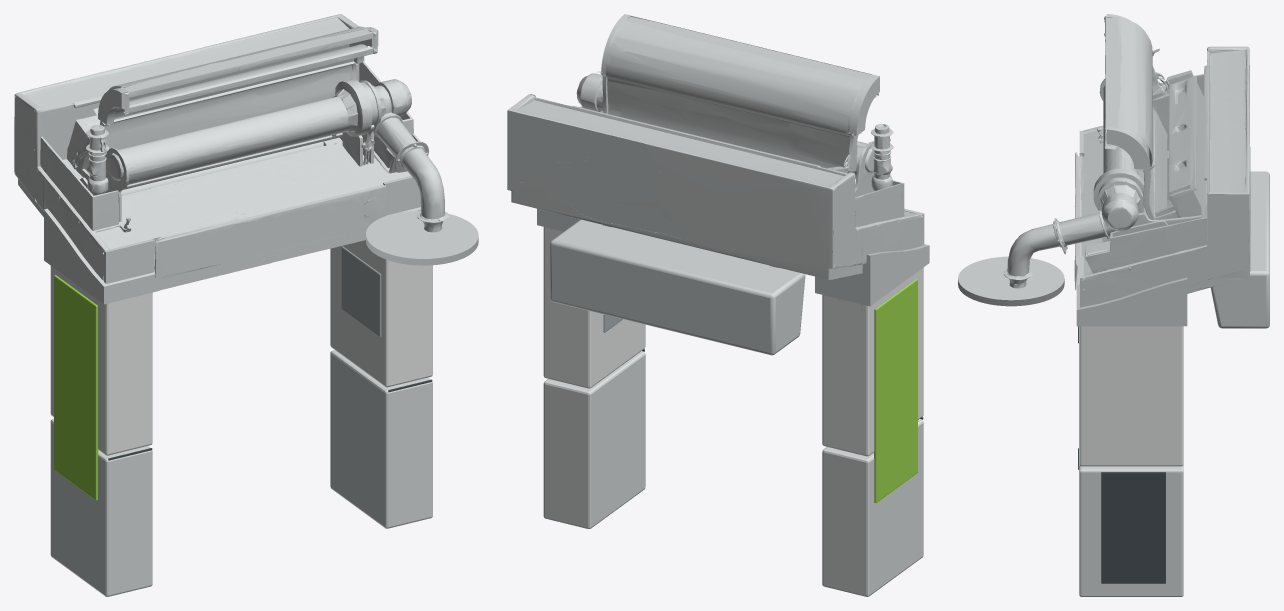
Rendered from JWF0019A-第11轮精灵眼管道梯形罩.glb.
3 renders of one model, left to right at view 1: azimuth 30°, elevation 25°; view 2: azimuth 150°, elevation 25°; view 3: azimuth 270°, elevation 25°, orthographic. The views are drawn at different scales.
Visible parts, largest first — view 1: 第10轮_母版保形上部外观_锁定, 右支腿_下柜体, 左支腿_下柜体, 右支腿_上柜体, 左支腿_上柜体, 左支腿_外侧绿色饰板, 第10轮_出口圆盘_连续低模, 右立柱_内侧电柜门, 第11轮_精灵眼前缘横向圆管, 第10轮_顶部左侧排风弯头_连续低模; view 2: 第10轮_母版保形上部外观_锁定, 第11轮_精灵眼悬挂直角梯形罩壳, 右支腿_下柜体, 左支腿_下柜体, 左支腿_上柜体, 左支腿_外侧绿色饰板, 右支腿_上柜体, 第10轮_顶部左侧排风弯头_连续低模; view 3: 第10轮_母版保形上部外观_锁定, 右支腿_上柜体, 右支腿_外侧散热面板, 右支腿_下柜体, 第11轮_精灵眼悬挂直角梯形罩壳, 第10轮_出口圆盘_连续低模, 第10轮_顶部排风弯头_连续低模.
Part boxes in pixels (bbox=[...]): 第10轮_母版保形上部外观_锁定: bbox=[14, 14, 449, 304]; 右支腿_下柜体: bbox=[330, 350, 432, 528]; 左支腿_下柜体: bbox=[50, 419, 152, 596]; 右支腿_上柜体: bbox=[330, 240, 432, 387]; 左支腿_上柜体: bbox=[50, 266, 152, 455]; 左支腿_外侧绿色饰板: bbox=[54, 275, 98, 500]; 第10轮_出口圆盘_连续低模: bbox=[366, 210, 478, 265]; 右立柱_内侧电柜门: bbox=[341, 246, 381, 337]; 第11轮_精灵眼前缘横向圆管: bbox=[121, 142, 322, 195]; 第10轮_顶部左侧排风弯头_连续低模: bbox=[98, 88, 128, 124]; 第10轮_母版保形上部外观_锁定: bbox=[507, 14, 929, 311]; 第11轮_精灵眼悬挂直角梯形罩壳: bbox=[550, 219, 805, 355]; 右支腿_下柜体: bbox=[543, 351, 645, 528]; 左支腿_下柜体: bbox=[822, 419, 923, 596]; 左支腿_上柜体: bbox=[822, 267, 923, 456]; 左支腿_外侧绿色饰板: bbox=[874, 278, 917, 502]; 右支腿_上柜体: bbox=[543, 227, 645, 388]; 第10轮_顶部左侧排风弯头_连续低模: bbox=[849, 74, 879, 136]; 第10轮_母版保形上部外观_锁定: bbox=[1003, 16, 1250, 326]; 右支腿_上柜体: bbox=[1079, 326, 1183, 466]; 右支腿_外侧散热面板: bbox=[1101, 472, 1165, 583]; 右支腿_下柜体: bbox=[1079, 465, 1183, 596]; 第11轮_精灵眼悬挂直角梯形罩壳: bbox=[1211, 171, 1269, 328]; 第10轮_出口圆盘_连续低模: bbox=[958, 256, 1064, 306]; 第10轮_顶部排风弯头_连续低模: bbox=[1106, 127, 1150, 169].
Bounding box in the file's own units: 3.2 × 4.44 × 2.79.
